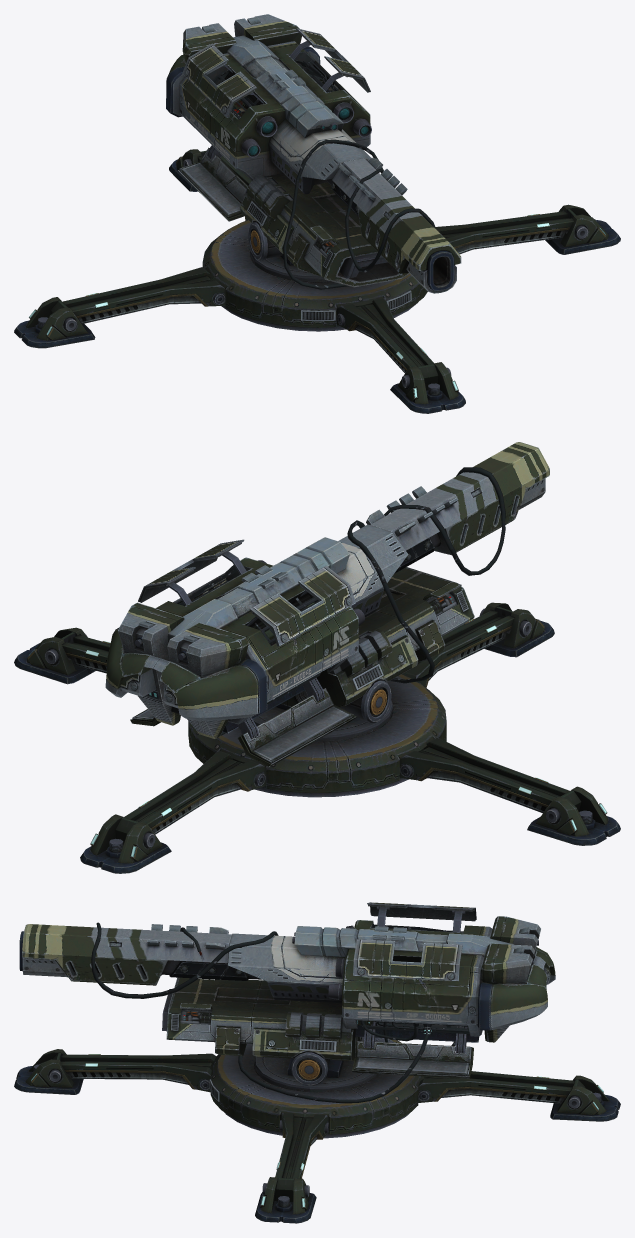
The model's file is weapon.glb.
3 views of the same model, one above another, from view 1: azimuth 30°, elevation 25°; view 2: azimuth 150°, elevation 25°; view 3: azimuth 270°, elevation 25° (orthographic). The views are drawn at different scales.
Visible parts, largest first — view 1: Mesh0_0; view 2: Mesh0_0; view 3: Mesh0_0.
Part boxes in pixels (box(x1,y1,x2,y2)): Mesh0_0: box(14, 14, 620, 413); Mesh0_0: box(14, 442, 620, 873); Mesh0_0: box(14, 902, 620, 1223).
Size of the model in its own units: 6.93 by 2.22 by 6.93.
Materials: 1 (1 with a texture image).
